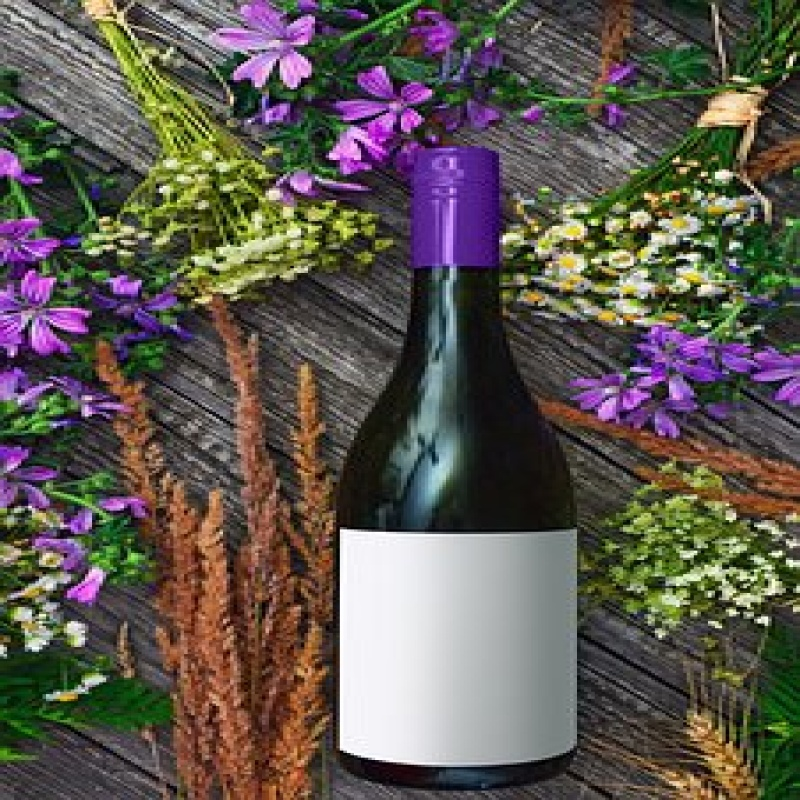wine: (334, 144, 575, 775)
